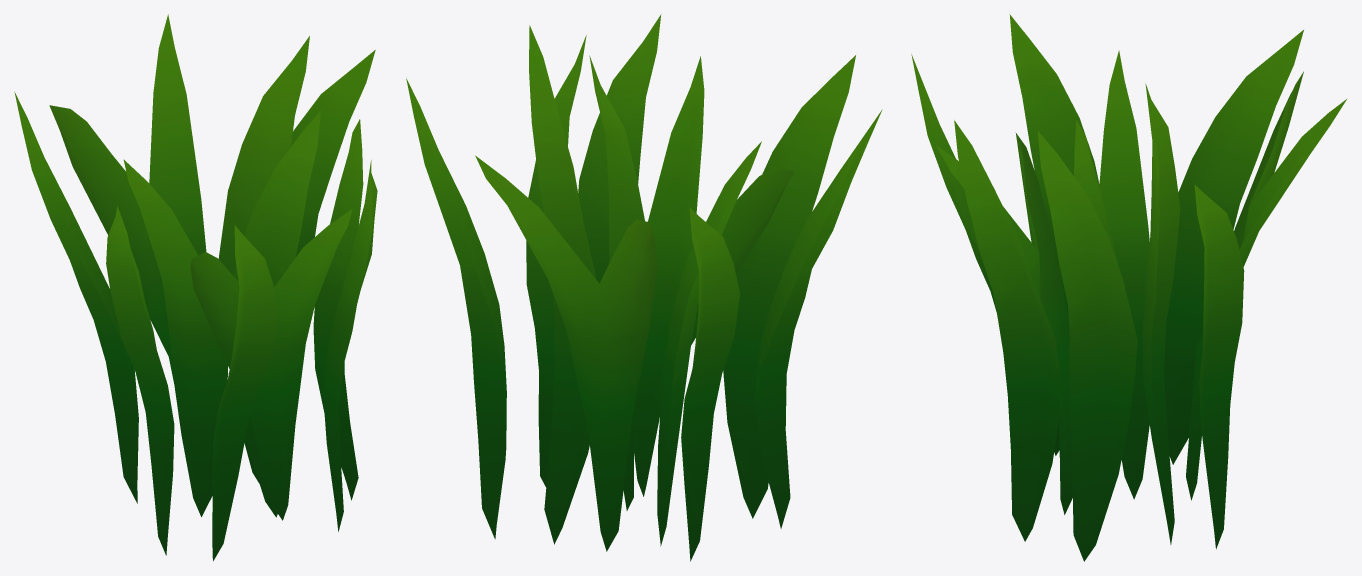
The model's file is nkgrasswide.glb.
3 views of the same model, side by side, from view 1: azimuth 30°, elevation 25°; view 2: azimuth 150°, elevation 25°; view 3: azimuth 270°, elevation 25° (orthographic). The views are drawn at different scales.
Visible parts, largest first — view 1: Grass_Wide_Short; view 2: Grass_Wide_Short; view 3: Grass_Wide_Short.
Part boxes in pixels (<box>): Grass_Wide_Short: <box>14,14,377,561</box>; Grass_Wide_Short: <box>406,14,882,561</box>; Grass_Wide_Short: <box>911,14,1347,561</box>.
Bounding box in the file's own units: 1.04 × 1.3 × 1.07.
1 material, 1 textured.
